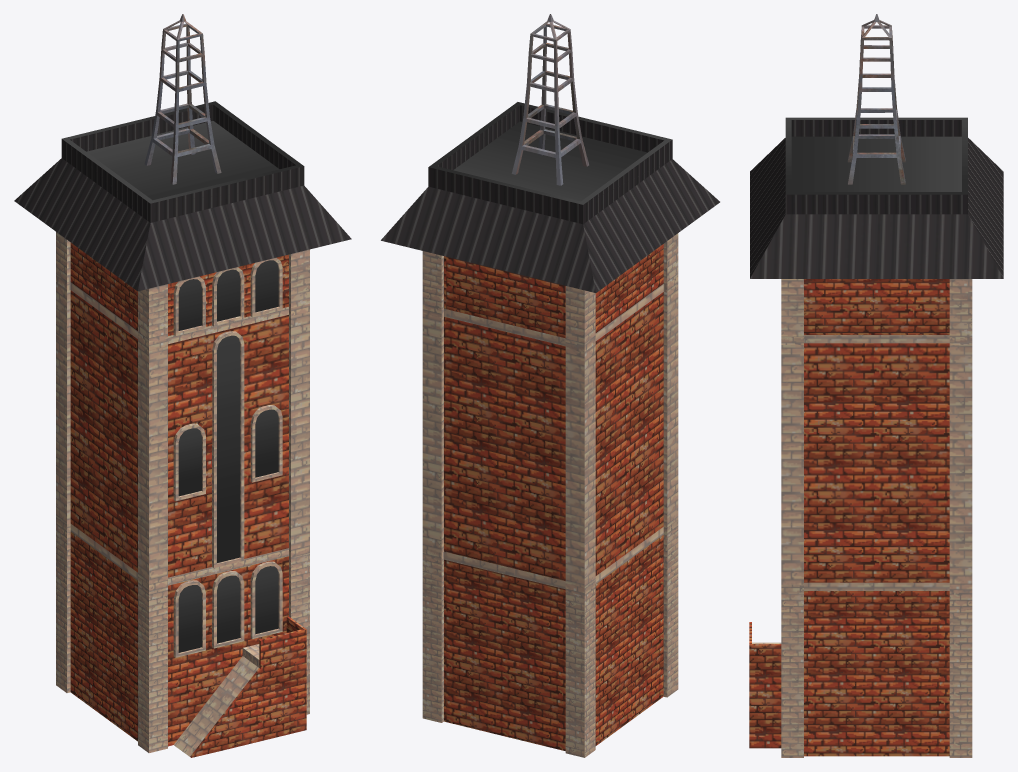
File: 3_industrial.fbx
The picture shows the model from 3 angles, left to right: view 1: azimuth 30°, elevation 25°; view 2: azimuth 150°, elevation 25°; view 3: azimuth 270°, elevation 25°; orthographic projection. The views are drawn at different scales.
Visible parts, largest first — view 1: Window.002; view 2: Window.002; view 3: Window.002.
Part boxes in pixels (x1,y1,x2,y2): Window.002: [14, 14, 351, 757]; Window.002: [381, 14, 719, 757]; Window.002: [749, 14, 1003, 757].
Bounding box in the file's own units: 217 × 664 × 218.
